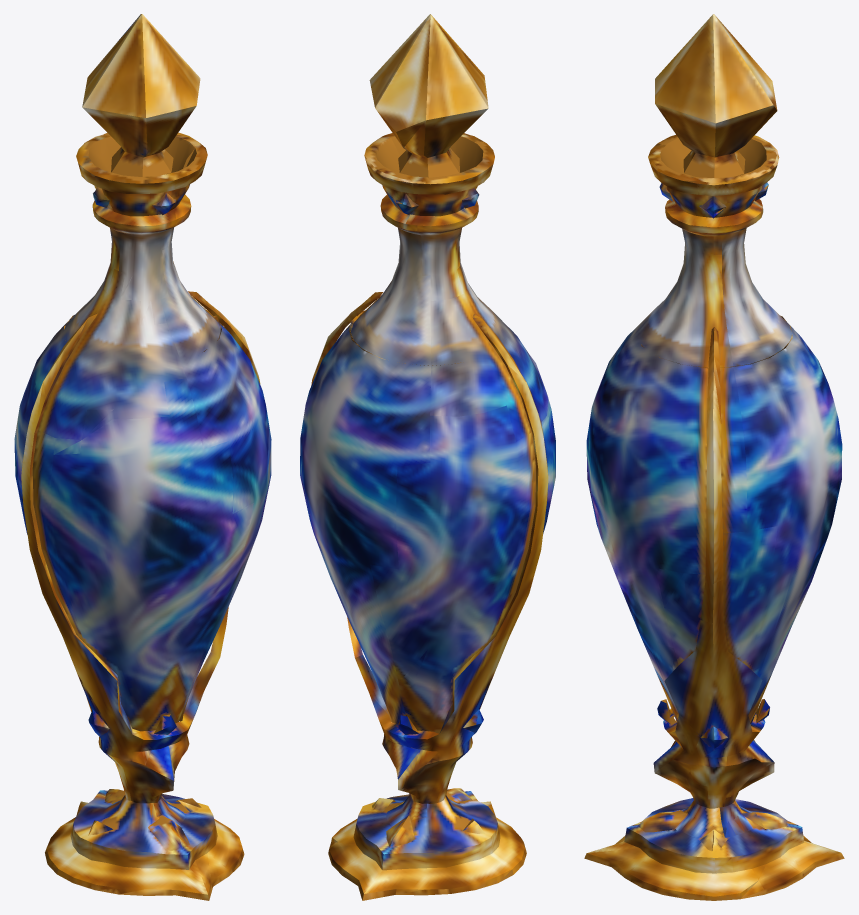
The model's file is item_maw_craft_endless_potion.glb.
The picture shows the model from 3 angles, left to right: view 1: azimuth 30°, elevation 25°; view 2: azimuth 150°, elevation 25°; view 3: azimuth 270°, elevation 25°; orthographic projection.
Parts seen in each view (by area): view 1: maw_endless_potion; view 2: maw_endless_potion; view 3: maw_endless_potion.
Part boxes in pixels (<box>): maw_endless_potion: <box>14,14,271,900</box>; maw_endless_potion: <box>300,14,555,900</box>; maw_endless_potion: <box>584,14,844,900</box>.
Size of the model in its own units: 0.3013 by 1 by 0.2801.
Materials: 1 (1 with a texture image).
